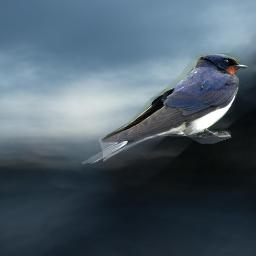Swallow: (82, 53, 249, 169)
